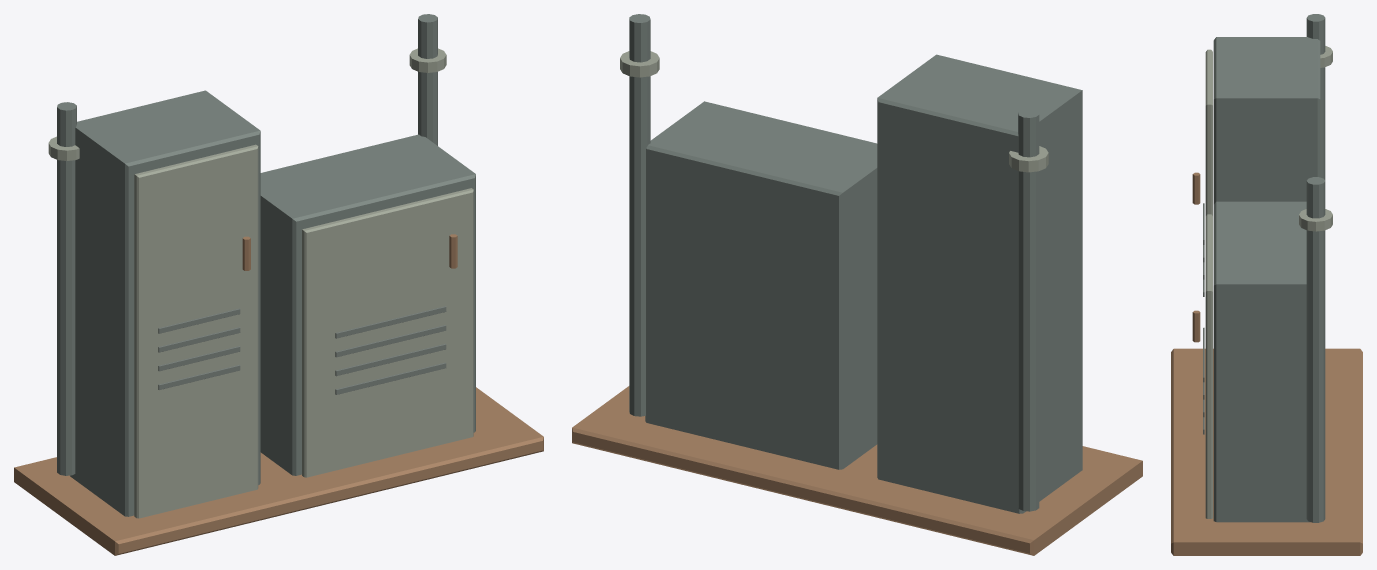
Rendered from TechnicalProps.fbx.
3 renders of one model, left to right at view 1: azimuth 30°, elevation 25°; view 2: azimuth 150°, elevation 25°; view 3: azimuth 270°, elevation 25°, orthographic. The views are drawn at different scales.
Visible parts, largest first — view 1: ControlDoors__WornSteel, ControlBodies__Steel, Plinth__Rust, PipeFeed__Steel, VentSlots__ConcreteDark, PipeFeed__WornSteel; view 2: ControlBodies__Steel, Plinth__Rust, PipeFeed__Steel, PipeFeed__WornSteel; view 3: ControlBodies__Steel, Plinth__Rust, PipeFeed__Steel, ControlDoors__WornSteel, PipeFeed__WornSteel, Handles__Rust, VentSlots__ConcreteDark.
Part boxes in pixels (bbox=[...]): ControlDoors__WornSteel: bbox=[134, 144, 473, 518]; ControlBodies__Steel: bbox=[70, 90, 475, 516]; Plinth__Rust: bbox=[14, 387, 543, 555]; PipeFeed__Steel: bbox=[57, 14, 437, 475]; VentSlots__ConcreteDark: bbox=[158, 306, 446, 394]; PipeFeed__WornSteel: bbox=[48, 48, 446, 160]; ControlBodies__Steel: bbox=[645, 54, 1082, 513]; Plinth__Rust: bbox=[572, 386, 1142, 555]; PipeFeed__Steel: bbox=[629, 14, 1039, 511]; PipeFeed__WornSteel: bbox=[620, 51, 1048, 172]; ControlBodies__Steel: bbox=[1213, 37, 1320, 522]; Plinth__Rust: bbox=[1171, 348, 1362, 555]; PipeFeed__Steel: bbox=[1306, 14, 1325, 522]; ControlDoors__WornSteel: bbox=[1205, 49, 1212, 518]; PipeFeed__WornSteel: bbox=[1299, 46, 1332, 231]; Handles__Rust: bbox=[1192, 172, 1200, 342]; VentSlots__ConcreteDark: bbox=[1203, 203, 1204, 434].
Size of what is drawn, in the model's own units: 2.15 by 1.85 by 0.9.
